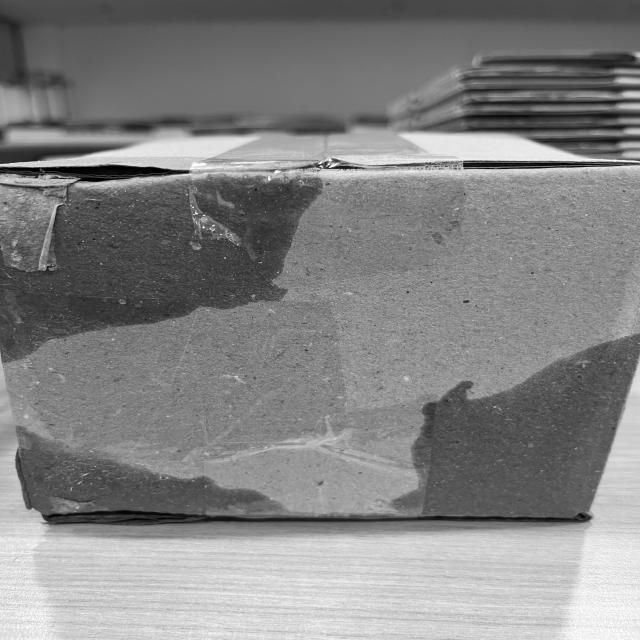wet: (0, 158, 320, 346), (421, 326, 640, 521), (7, 423, 285, 517)
